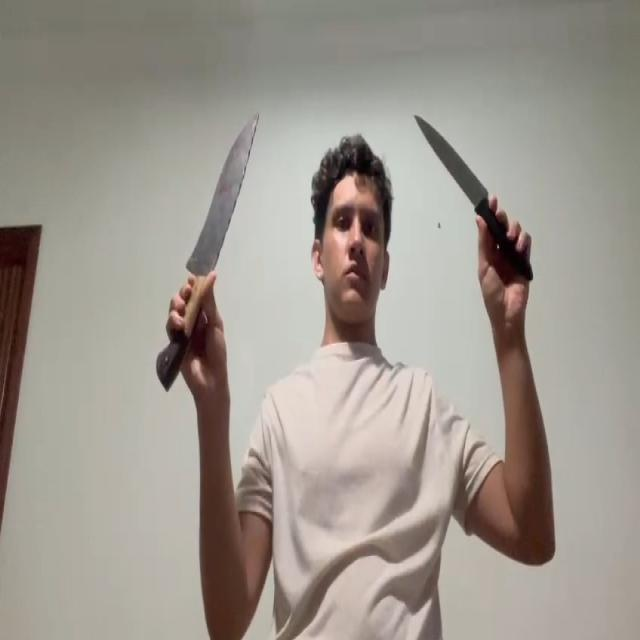knife: (184, 107, 263, 281), (414, 110, 490, 202)
